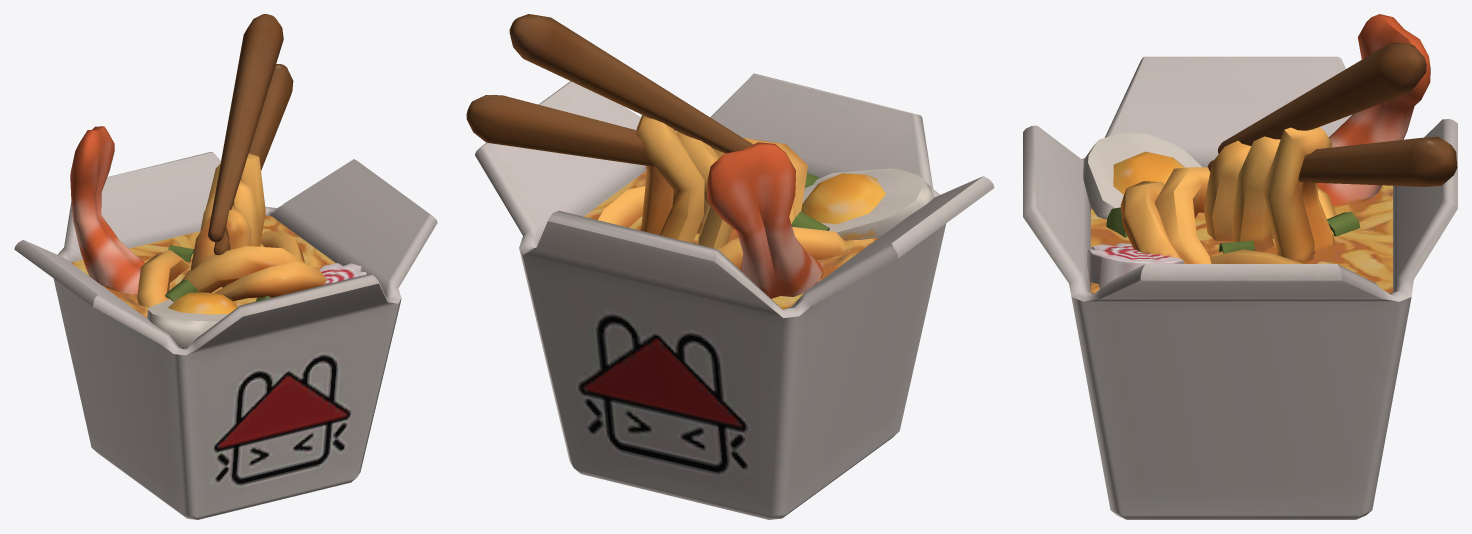
Rendered from 0-noodle.fbx.
3 views of the same model, side by side, from view 1: azimuth 30°, elevation 25°; view 2: azimuth 150°, elevation 25°; view 3: azimuth 270°, elevation 25° (orthographic). The views are drawn at different scales.
Parts seen in each view (by area): view 1: 0-noodle; view 2: 0-noodle; view 3: 0-noodle.
Part boxes in pixels (bbox=[...]): 0-noodle: bbox=[14, 14, 437, 519]; 0-noodle: bbox=[466, 14, 994, 519]; 0-noodle: bbox=[1023, 14, 1457, 519].
Bounding box in the file's own units: 93.68 × 98.95 × 79.55.
